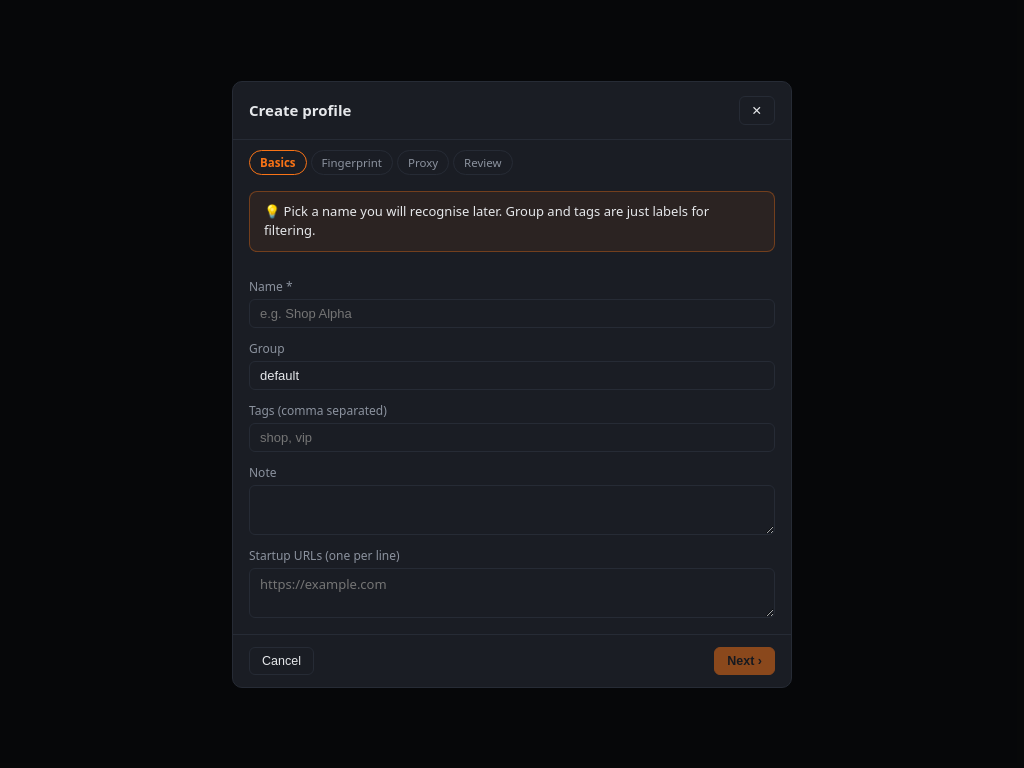
ProfileWizard — create mode › blocks Next on the Basics step until the name is filled
Expected: the button "Next ›" is disabled, [714,646,775,674]
Type "Wizard Test" into the field labelled "Name *".
click(512, 313); type("Wizard Test")  # box [249,298,775,328]
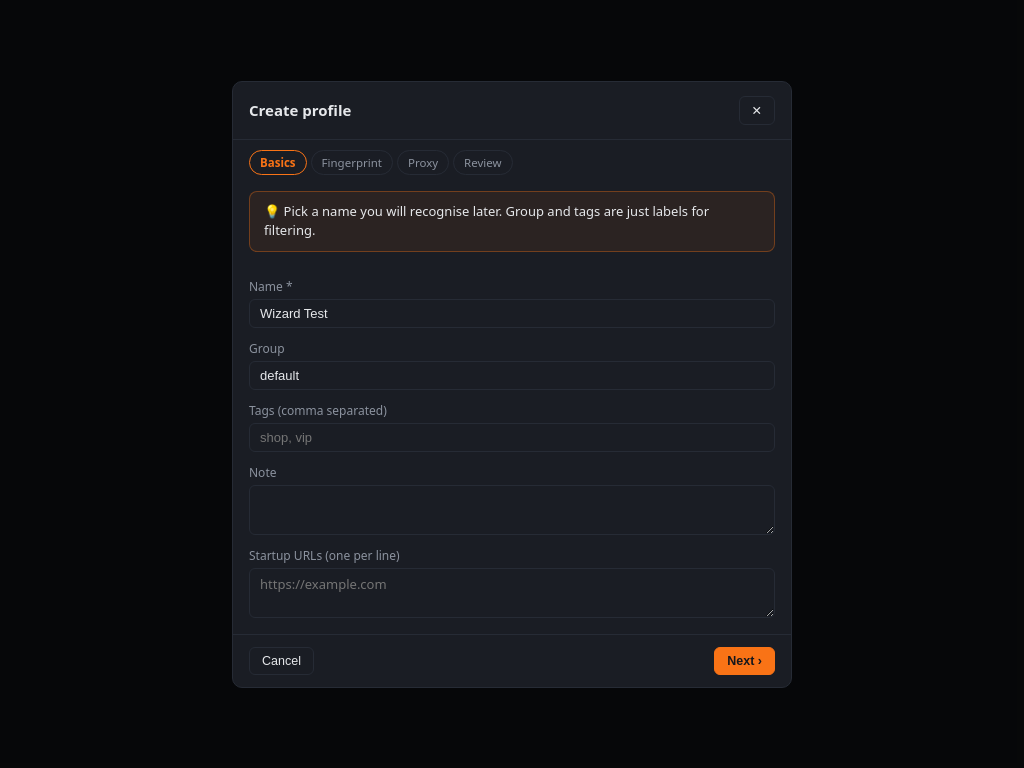
Now the button "Next ›" is enabled, box [714,646,775,674]
